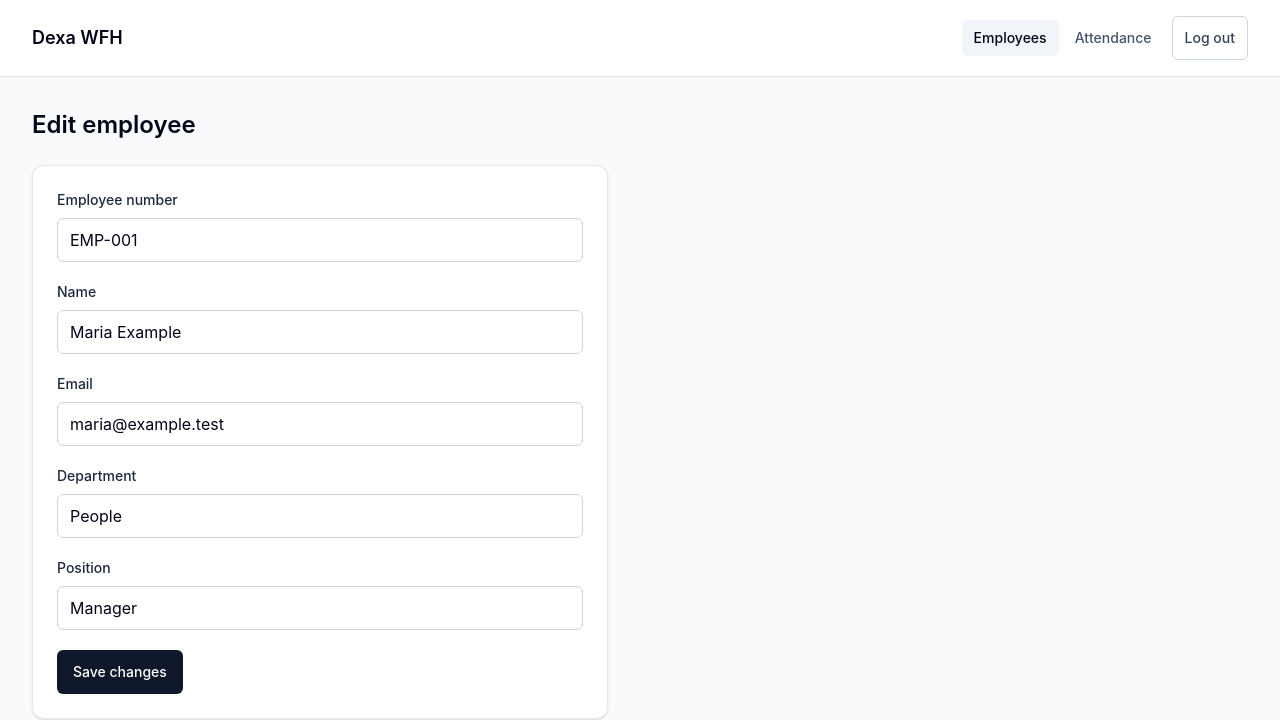
Test: employee form routes › reopens the updated employee instead of stale cached details
Later steps or results of the test are not shown.
Replace the text in the field labelled "Name" with "Maria Updated" at (320, 332), box [57,310,583,354]
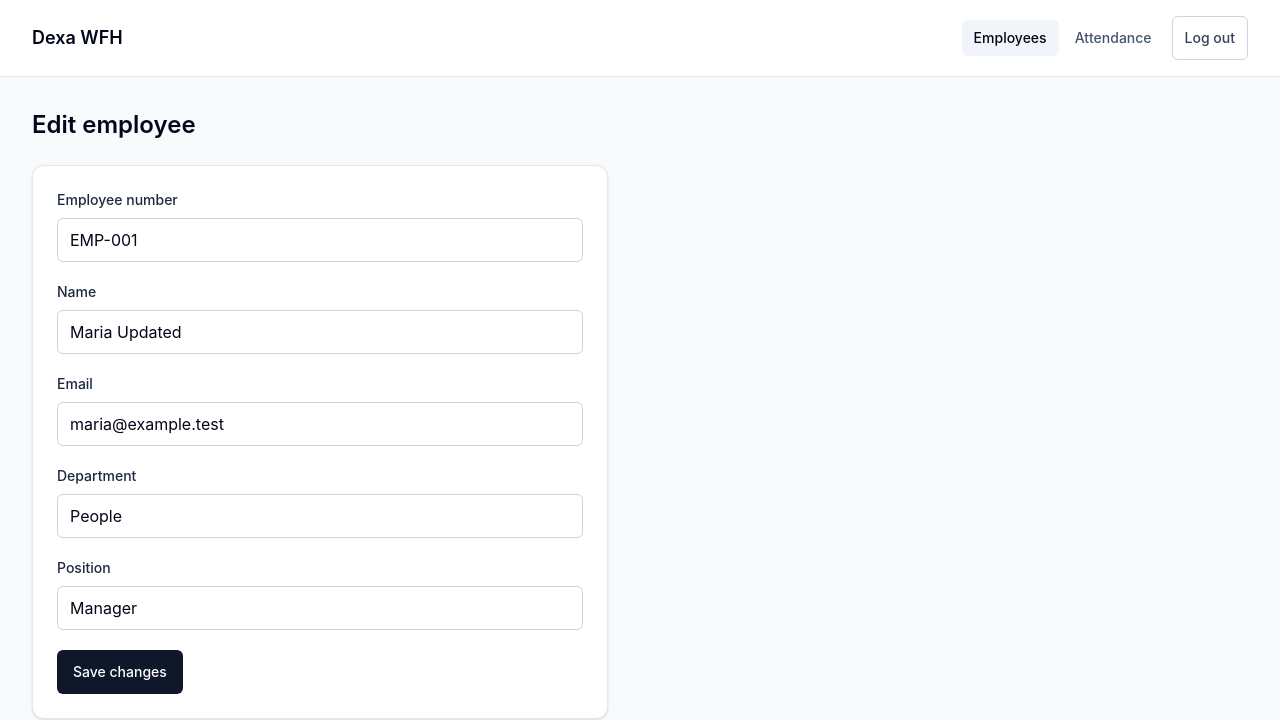
Click the button "Save changes" at (120, 672), box [57,650,183,694]
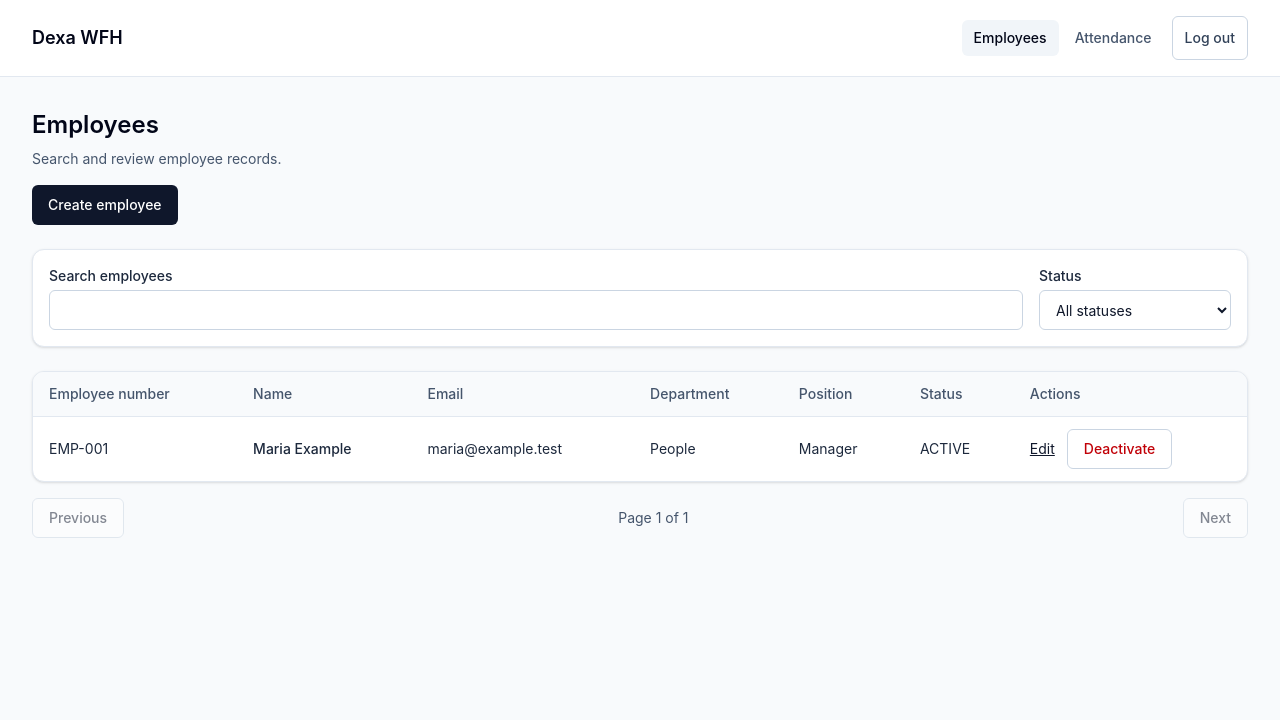
Check: the table is shown, box [33,372,1247,481]
